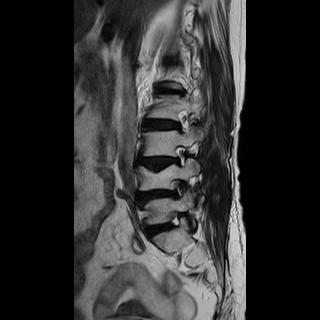RFS0: (169, 139, 192, 171)
RFS2: (165, 175, 192, 202)
